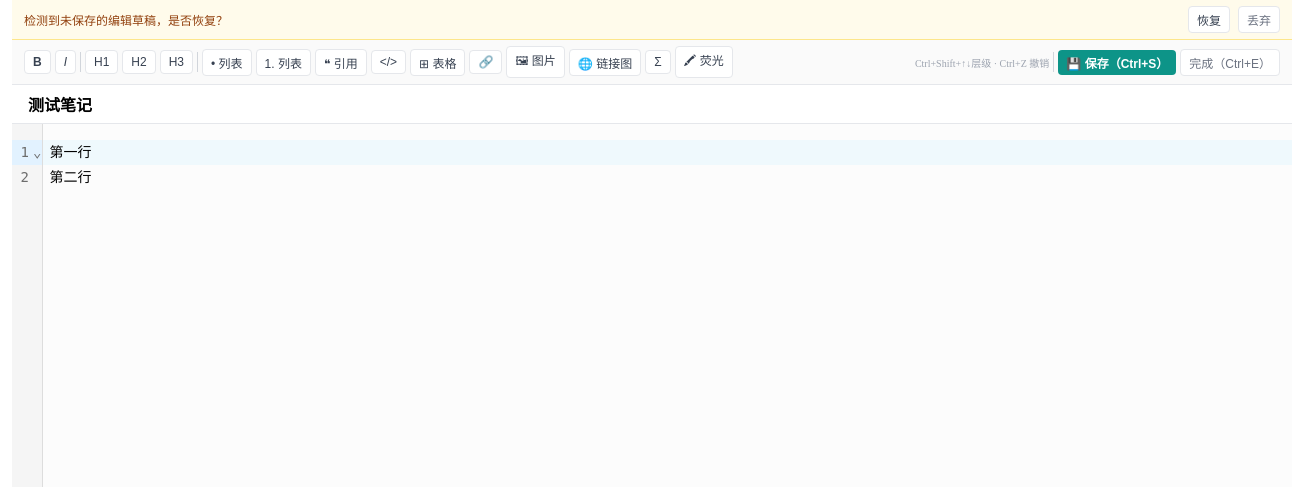
Test: RichEditorView 草稿恢复层 › 点丢弃 → 草稿清除且提示消失
The image size is (1304, 504).
Expected: the text "检测到未保存的编辑草稿，是否恢复？" is shown, [24,14,228,28]
Click the button "丢弃" at (1259, 20), box [1238,6,1280,33]
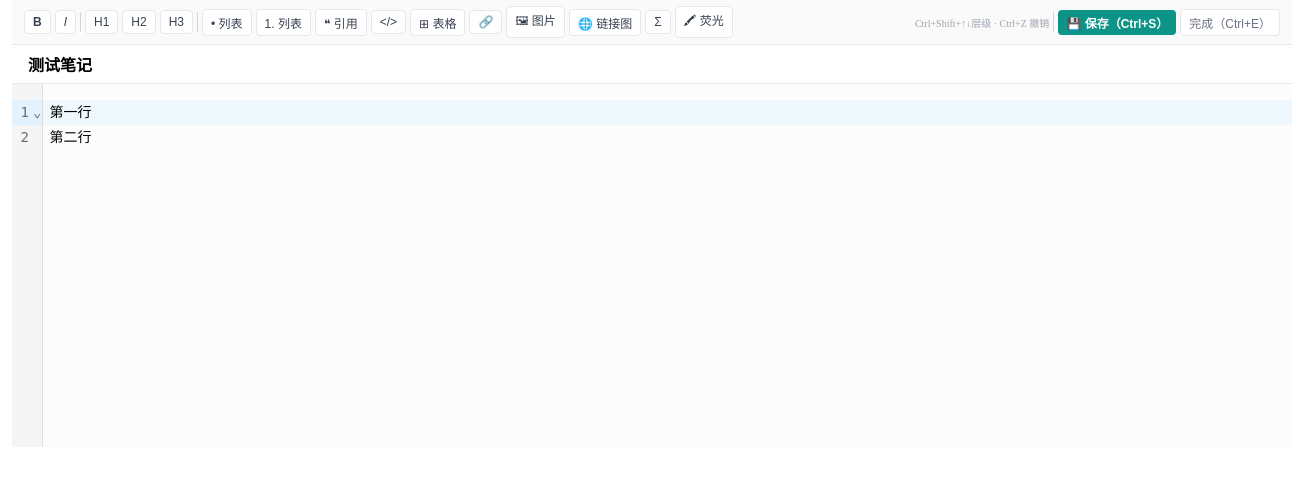
Result: the text "检测到未保存的编辑草稿" is gone
